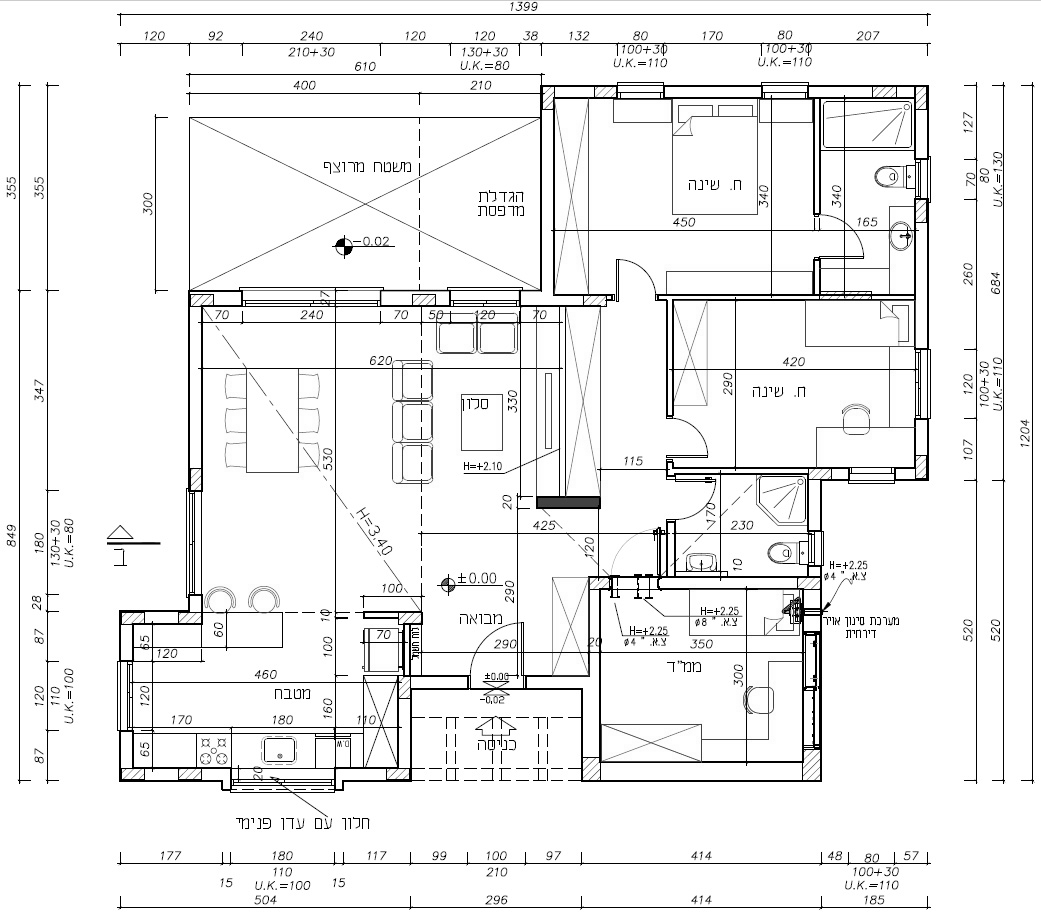door: (466, 618, 533, 667), (825, 211, 869, 264), (609, 251, 658, 294), (678, 417, 719, 462), (681, 478, 718, 517)
window: (241, 282, 382, 310), (182, 490, 207, 596), (230, 775, 336, 796), (108, 659, 138, 732), (449, 281, 521, 311), (910, 346, 933, 419), (615, 76, 666, 107), (759, 78, 810, 105), (848, 464, 895, 487), (911, 157, 935, 199)
